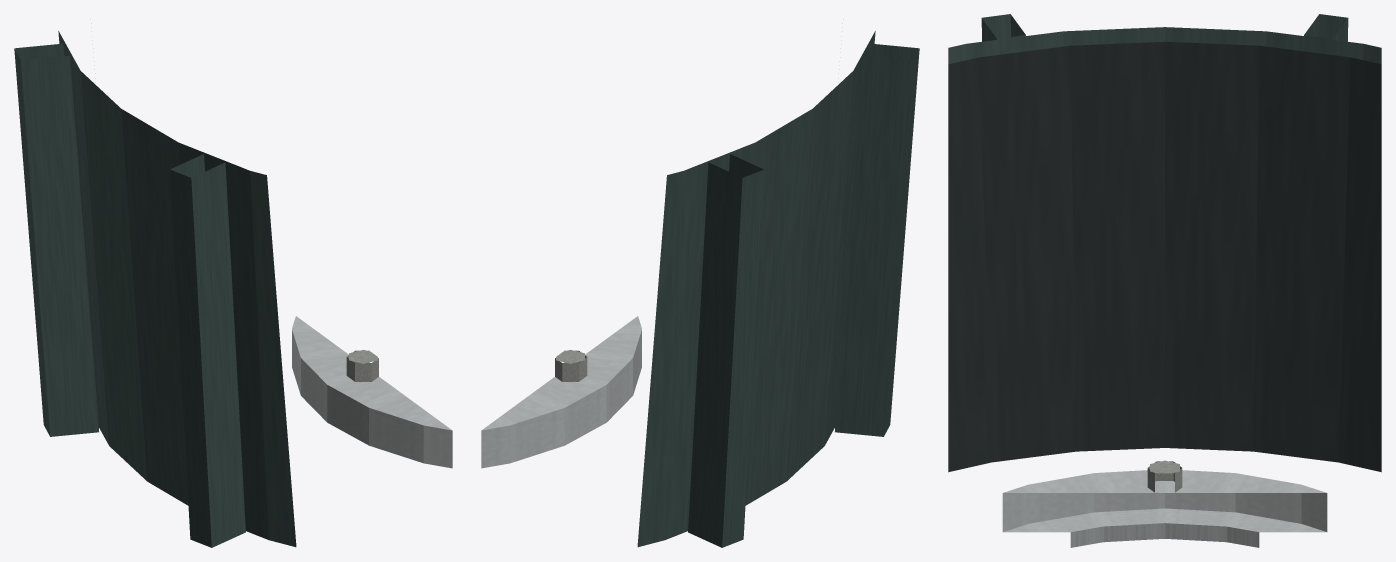
File: cell_111.obj
3 renders of one model, left to right at view 1: azimuth 30°, elevation 25°; view 2: azimuth 150°, elevation 25°; view 3: azimuth 270°, elevation 25°, orthographic. The views are drawn at different scales.
Size of the model in its own units: 0.7695 by 1 by 1.
